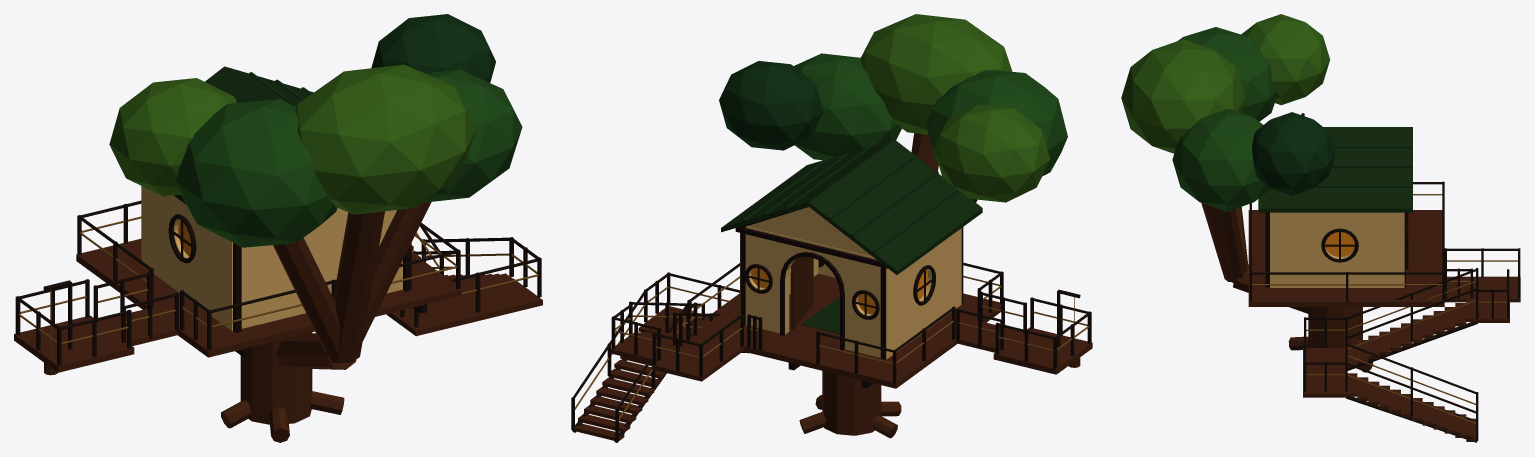
File: treehouse-visual.obj
3 views of the same model, side by side, from view 1: azimuth 30°, elevation 25°; view 2: azimuth 150°, elevation 25°; view 3: azimuth 270°, elevation 25° (orthographic). The views are drawn at different scales.
Visible parts, largest first — view 1: Canopy_01, Canopy_02, MainDeck, Canopy_04, RailAssembly_Dark, CabinRear, CabinSide1, Canopy_00, Canopy_03, OakBough.002, OakTrunk, MidLanding (+13 smaller); view 2: RoofHalf.001, Canopy_01, MainDeck, RailAssembly_Dark, Canopy_04, Canopy_03, CabinFront, Canopy_00, Canopy_02, CabinSide1, RoofHalf, OakTrunk (+15 smaller); view 3: Canopy_01, RoofHalf, CabinSide-1, MainDeck, Canopy_00, Canopy_03, RailAssembly_Dark, Canopy_04, Canopy_02, MidLanding, RailAssembly_Rope, OakTrunk (+9 smaller).
Part boxes in pixels (x1=…): Canopy_01: x1=295, y1=64, x2=476, y2=214; Canopy_02: x1=176, y1=99, x2=337, y2=247; MainDeck: x1=76, y1=238, x2=461, y2=357; Canopy_04: x1=109, y1=78, x2=236, y2=196; RailAssembly_Dark: x1=15, y1=200, x2=541, y2=365; CabinRear: x1=227, y1=207, x2=402, y2=330; CabinSide1: x1=146, y1=188, x2=226, y2=327; Canopy_00: x1=422, y1=69, x2=522, y2=202; Canopy_03: x1=371, y1=14, x2=495, y2=82; OakBough.002: x1=326, y1=211, x2=384, y2=362; OakTrunk: x1=240, y1=332, x2=312, y2=424; MidLanding: x1=386, y1=278, x2=542, y2=336; RoofHalf.001: x1=809, y1=139, x2=982, y2=274; Canopy_01: x1=860, y1=14, x2=1012, y2=134; MainDeck: x1=690, y1=273, x2=1001, y2=388; RailAssembly_Dark: x1=571, y1=262, x2=1091, y2=440; Canopy_04: x1=934, y1=105, x2=1050, y2=202; Canopy_03: x1=719, y1=61, x2=823, y2=150; CabinFront: x1=740, y1=226, x2=890, y2=359; Canopy_00: x1=794, y1=53, x2=901, y2=160; Canopy_02: x1=926, y1=70, x2=1067, y2=176; CabinSide1: x1=891, y1=231, x2=957, y2=355; RoofHalf: x1=721, y1=140, x2=893, y2=232; OakTrunk: x1=822, y1=371, x2=881, y2=435; Canopy_01: x1=1121, y1=39, x2=1245, y2=153; RoofHalf: x1=1258, y1=127, x2=1412, y2=212; CabinSide-1: x1=1277, y1=212, x2=1397, y2=287; MainDeck: x1=1248, y1=210, x2=1444, y2=306; Canopy_00: x1=1172, y1=108, x2=1270, y2=211; Canopy_03: x1=1252, y1=112, x2=1335, y2=195; RailAssembly_Dark: x1=1249, y1=181, x2=1520, y2=440; Canopy_04: x1=1241, y1=14, x2=1330, y2=105; Canopy_02: x1=1178, y1=27, x2=1275, y2=121; MidLanding: x1=1303, y1=348, x2=1346, y2=397; RailAssembly_Rope: x1=1252, y1=194, x2=1517, y2=424; OakTrunk: x1=1308, y1=307, x2=1362, y2=347.
Bounding box in the file's own units: 39.35 × 31.48 × 36.7.
